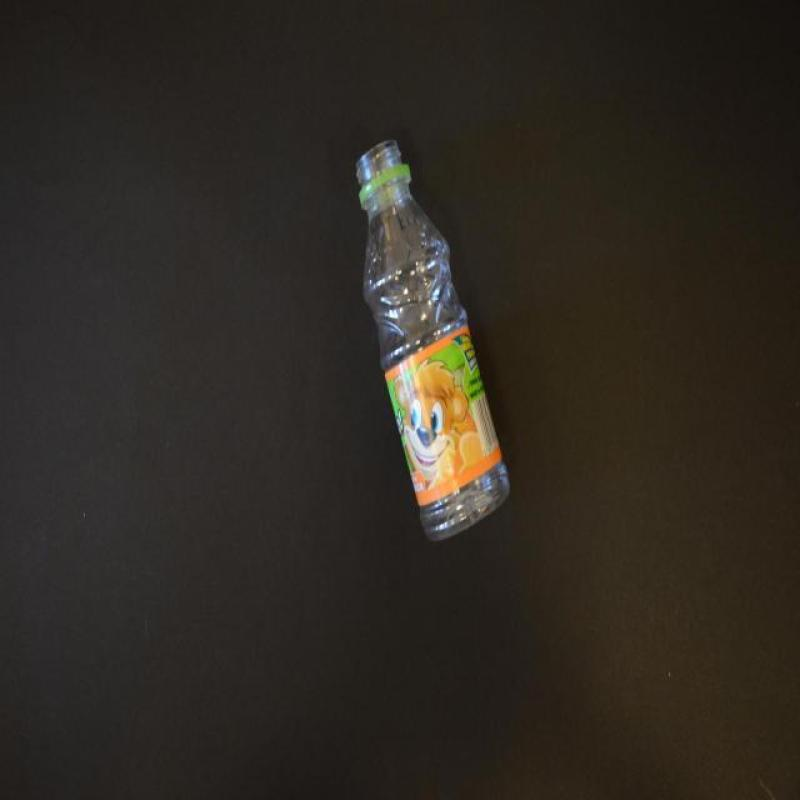botella: (354, 140, 511, 542)
